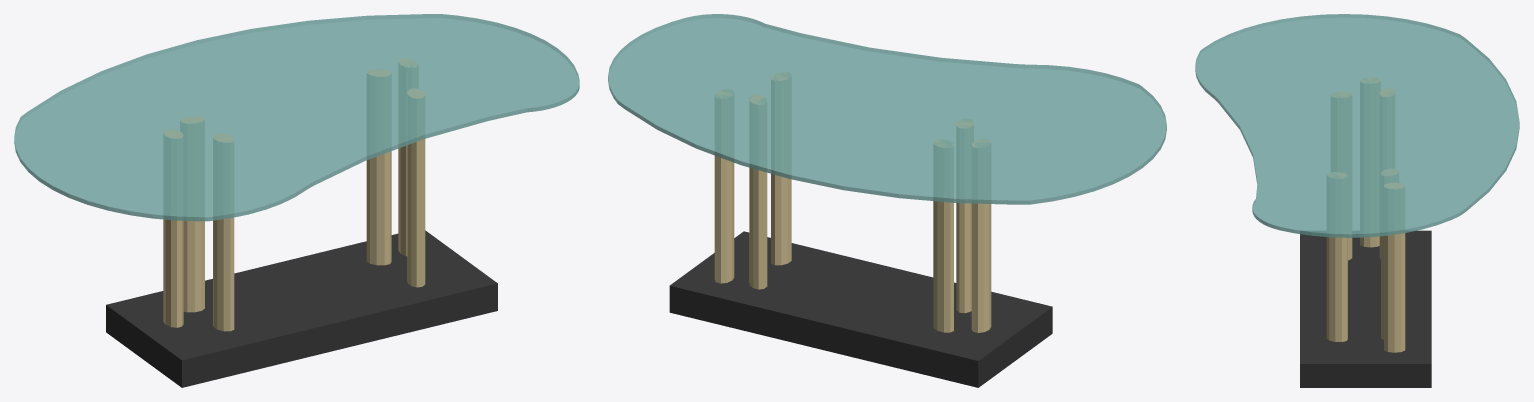
Rendered from BlueTable.glb.
3 renders of one model, left to right at view 1: azimuth 30°, elevation 25°; view 2: azimuth 150°, elevation 25°; view 3: azimuth 270°, elevation 25°, orthographic. The views are drawn at different scales.
Parts seen in each view (by area): view 1: Node; view 2: Node; view 3: Node.
Part boxes in pixels (x1,y1,x2,y2): Node: [14, 14, 579, 387]; Node: [608, 14, 1166, 387]; Node: [1195, 14, 1519, 387].
Bounding box in the file's own units: 49.49 × 20 × 30.82.
